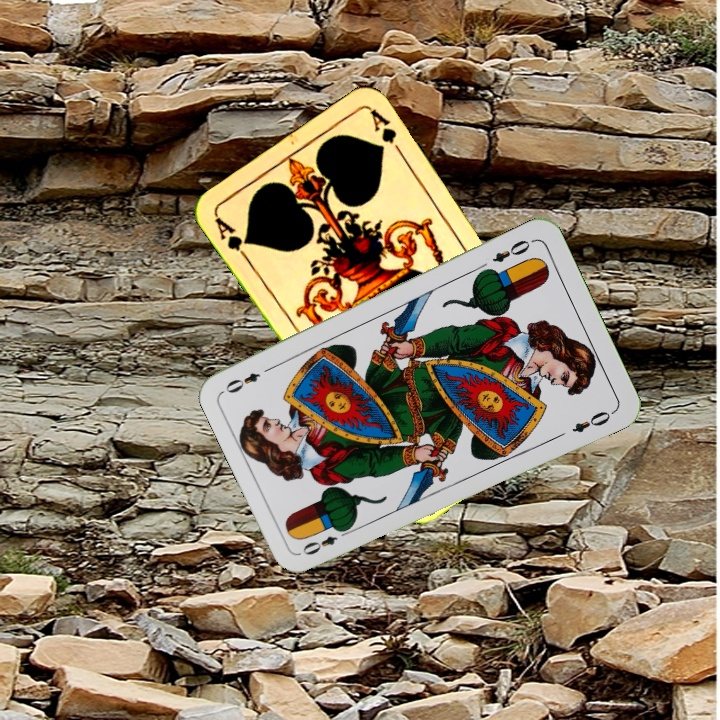EO: (298, 525, 354, 558), (488, 236, 533, 265)
GA: (211, 213, 252, 265)
